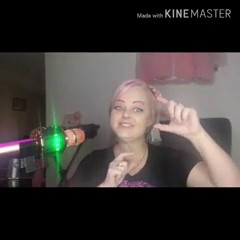C: (152, 96, 201, 138)
